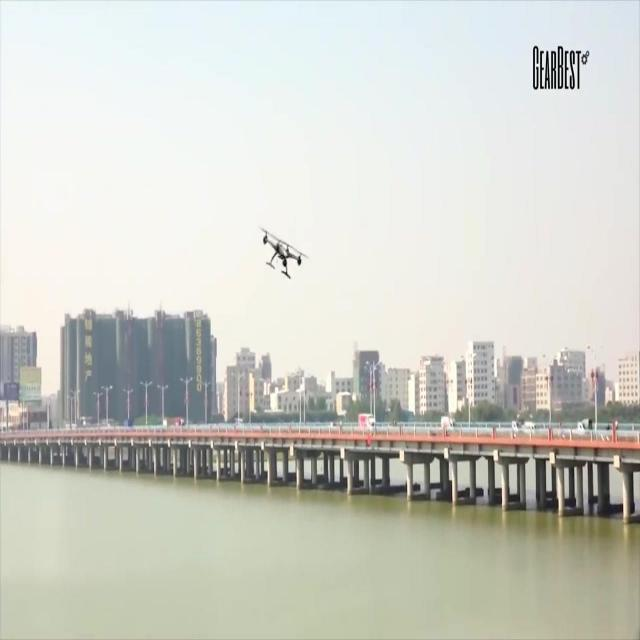UAV: (260, 228, 309, 279)
